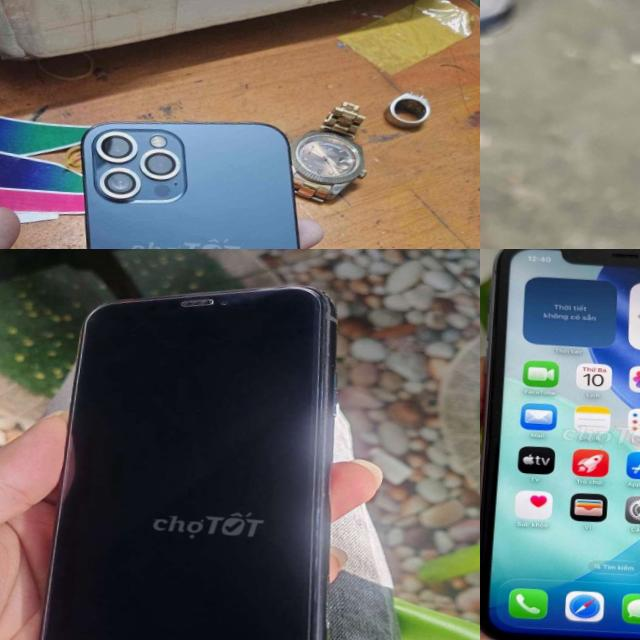scratch: (308, 279, 354, 311), (223, 281, 263, 310)
